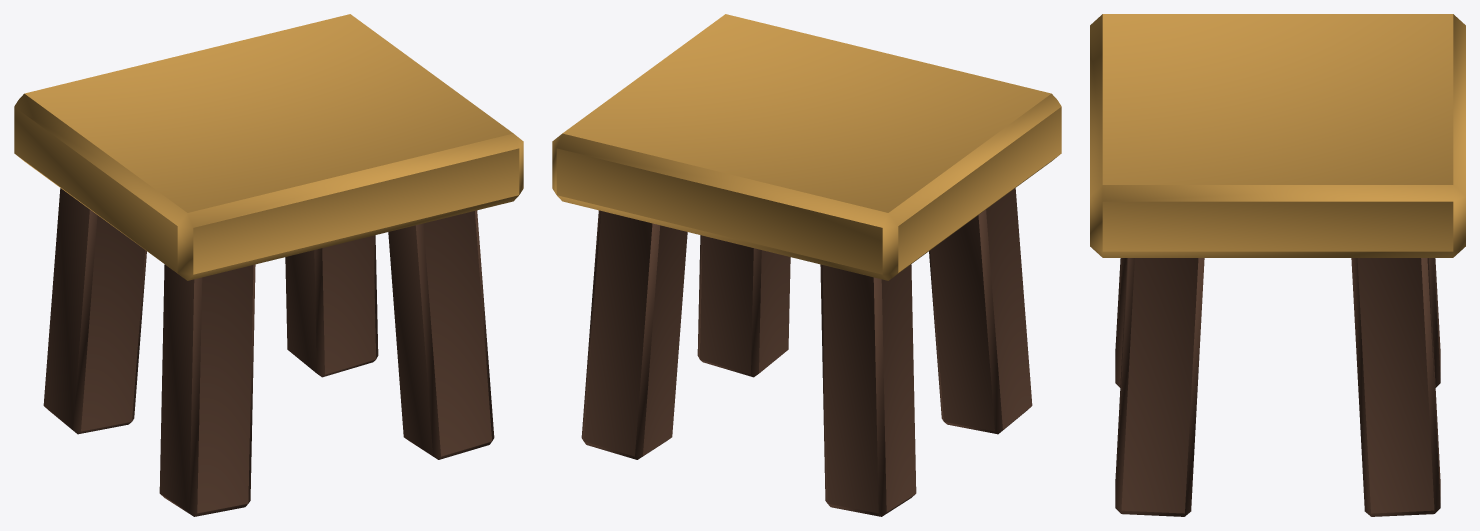
Rendered from prop_stool.glb.
The picture shows the model from 3 angles, left to right: view 1: azimuth 30°, elevation 25°; view 2: azimuth 150°, elevation 25°; view 3: azimuth 270°, elevation 25°; orthographic projection. The views are drawn at different scales.
Parts seen in each view (by area): view 1: stool_top, stool_leg_-0.17_-0.14, stool_leg_0.17_-0.14, stool_leg_-0.17_0.14, stool_leg_0.17_0.14; view 2: stool_top, stool_leg_-0.17_0.14, stool_leg_0.17_0.14, stool_leg_-0.17_-0.14, stool_leg_0.17_-0.14; view 3: stool_top, stool_leg_0.17_0.14, stool_leg_0.17_-0.14, stool_leg_-0.17_0.14, stool_leg_-0.17_-0.14.
Part boxes in pixels (x1=…): stool_top: x1=14, y1=14, x2=523, y2=280; stool_leg_-0.17_-0.14: x1=159, y1=264, x2=255, y2=516; stool_leg_0.17_-0.14: x1=388, y1=210, x2=494, y2=459; stool_leg_-0.17_0.14: x1=43, y1=188, x2=146, y2=434; stool_leg_0.17_0.14: x1=285, y1=235, x2=378, y2=377; stool_top: x1=552, y1=14, x2=1061, y2=280; stool_leg_-0.17_0.14: x1=820, y1=264, x2=916, y2=516; stool_leg_0.17_0.14: x1=581, y1=210, x2=687, y2=459; stool_leg_-0.17_-0.14: x1=929, y1=188, x2=1032, y2=434; stool_leg_0.17_-0.14: x1=697, y1=235, x2=790, y2=377; stool_top: x1=1090, y1=14, x2=1465, y2=257; stool_leg_0.17_0.14: x1=1351, y1=258, x2=1440, y2=516; stool_leg_0.17_-0.14: x1=1115, y1=258, x2=1204, y2=516; stool_leg_-0.17_0.14: x1=1428, y1=258, x2=1440, y2=387; stool_leg_-0.17_-0.14: x1=1115, y1=258, x2=1127, y2=387.
Size of the model in its own units: 0.48 by 0.423 by 0.42.
